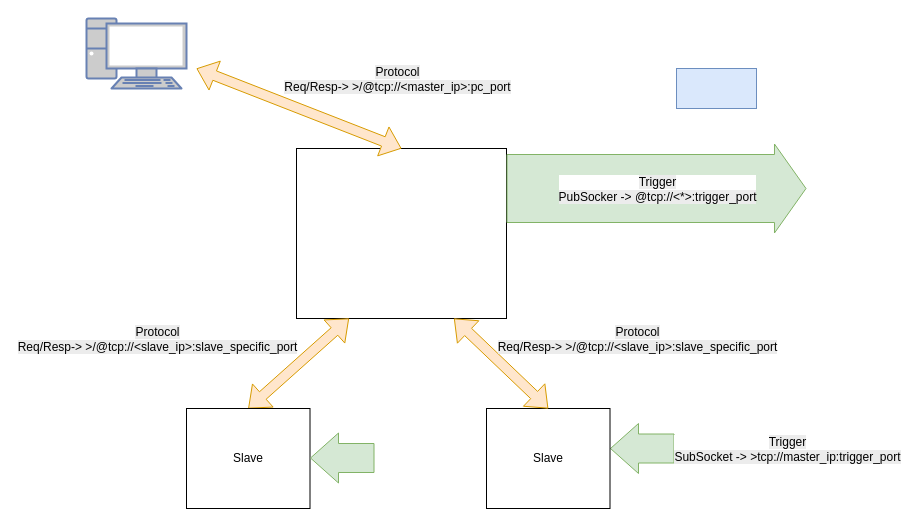
Image size: 917x526. Some labels were removed from this diagram. The centre of each missing label's shape, as x and y in pixels:
@ binds > connects: (716,88)
Master: (401,233)
